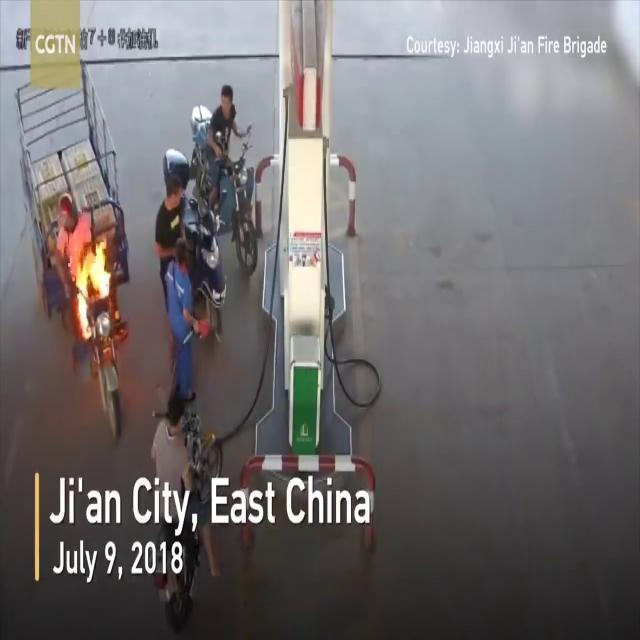Fire: (68, 221, 112, 341)
